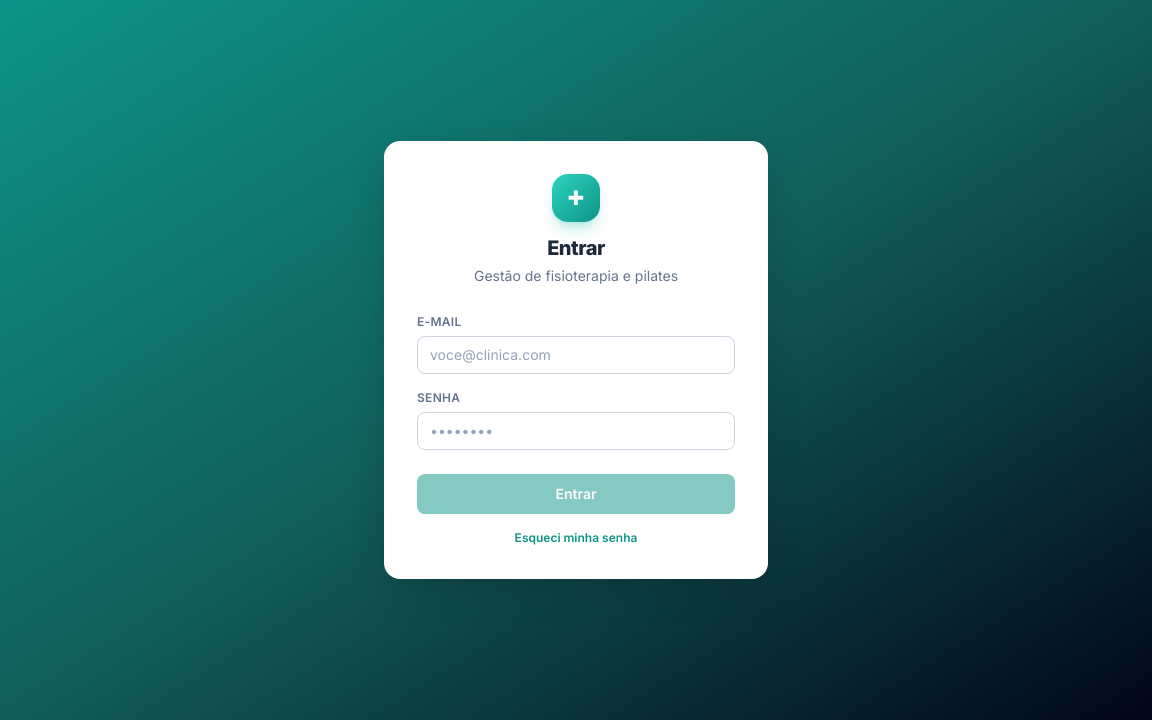
Autenticação › exibe mensagem de erro com credenciais inválidas
Type "admin@demo.clinica" into the field with id "email" at (576, 355), box [417,336,735,374]
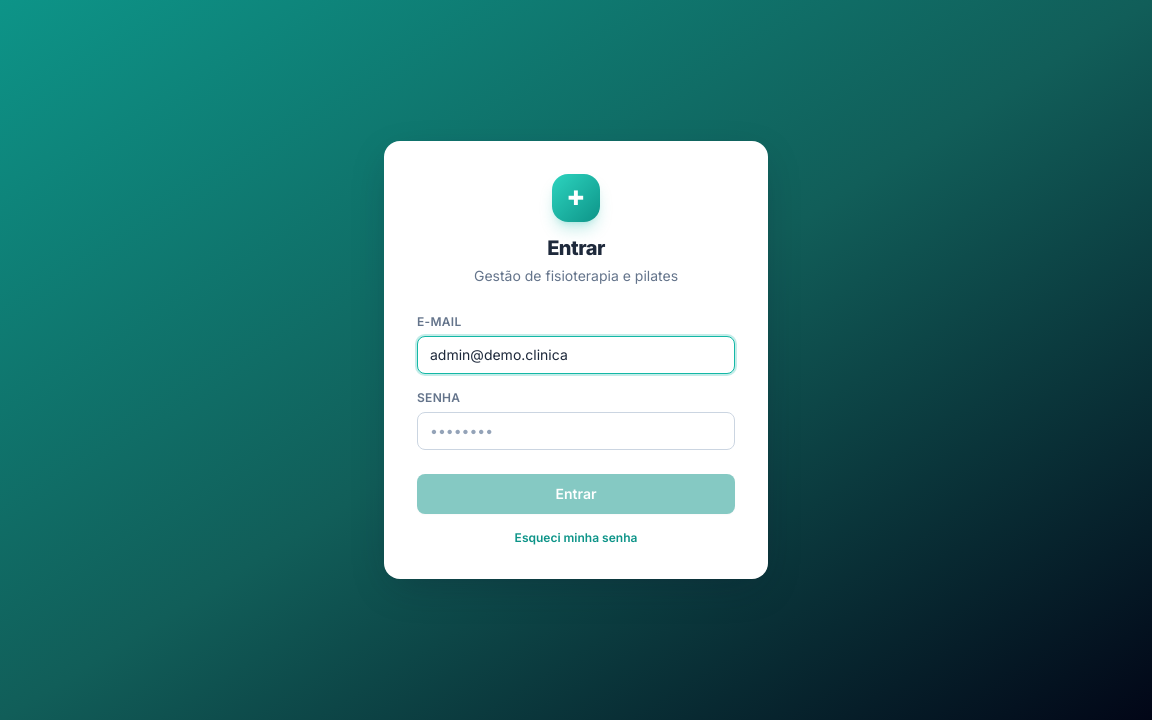
Type "errada" into the password field with id "senha" at (576, 431), box [417,412,735,450]
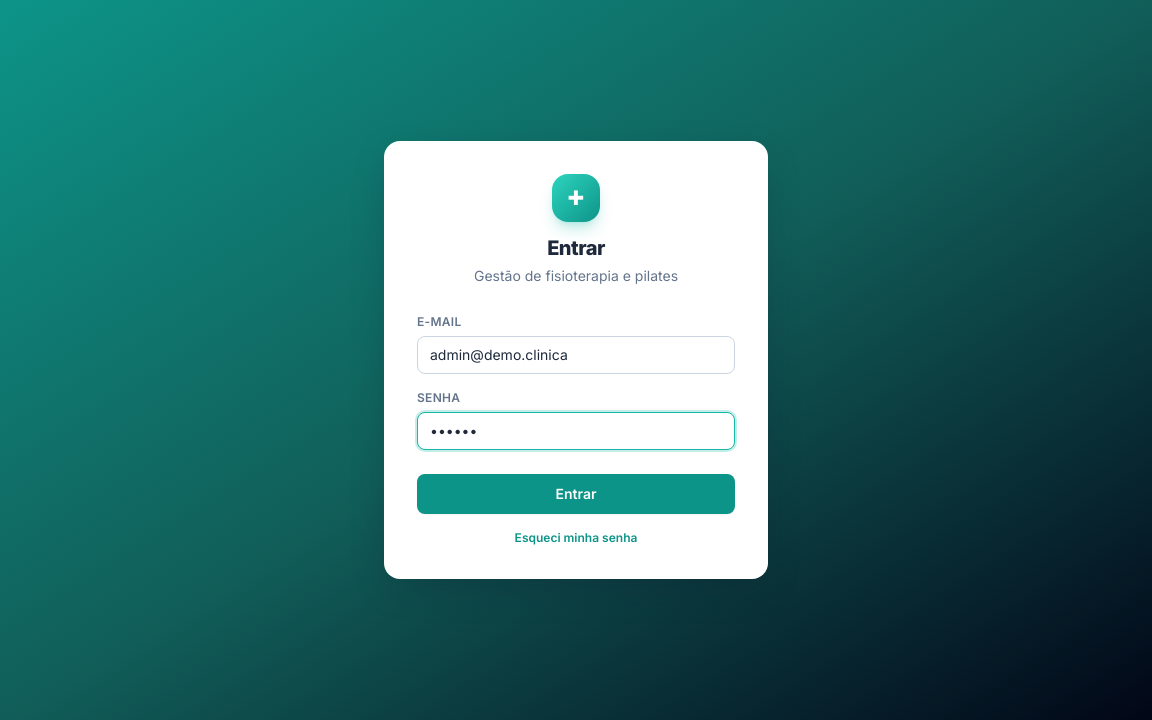
Click the button "Entrar" at (576, 494), box [417,474,735,514]
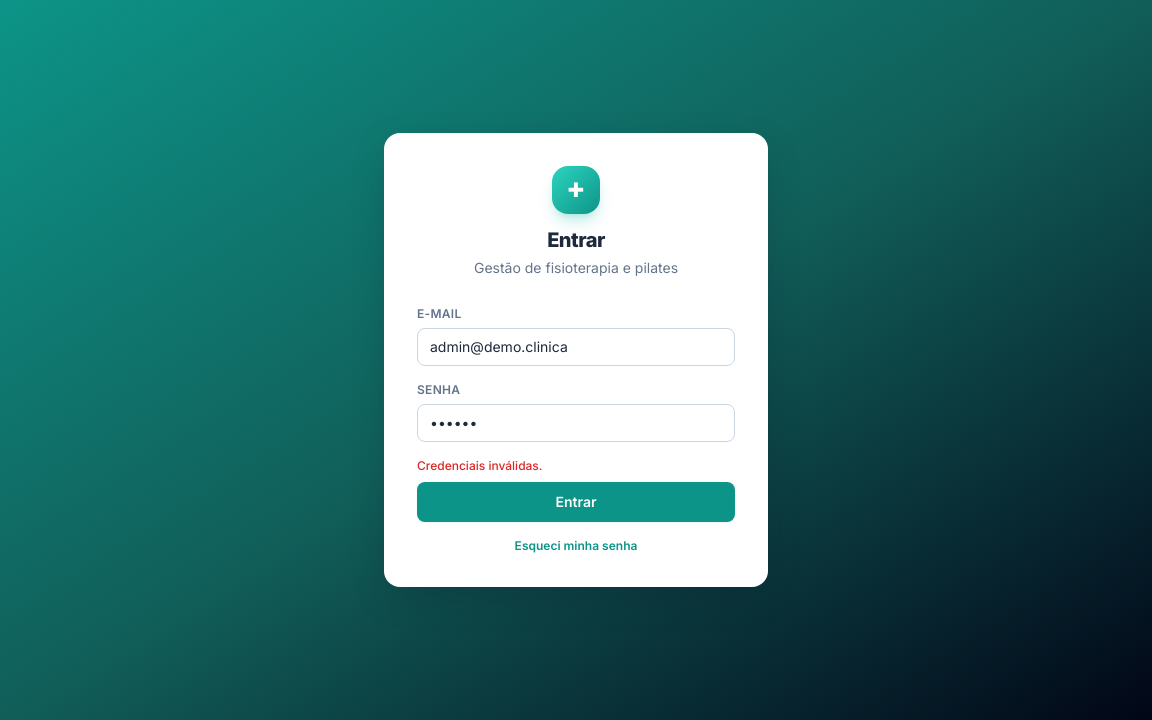
Check: the text "Credenciais inválidas." is shown, box [417,458,542,473]
